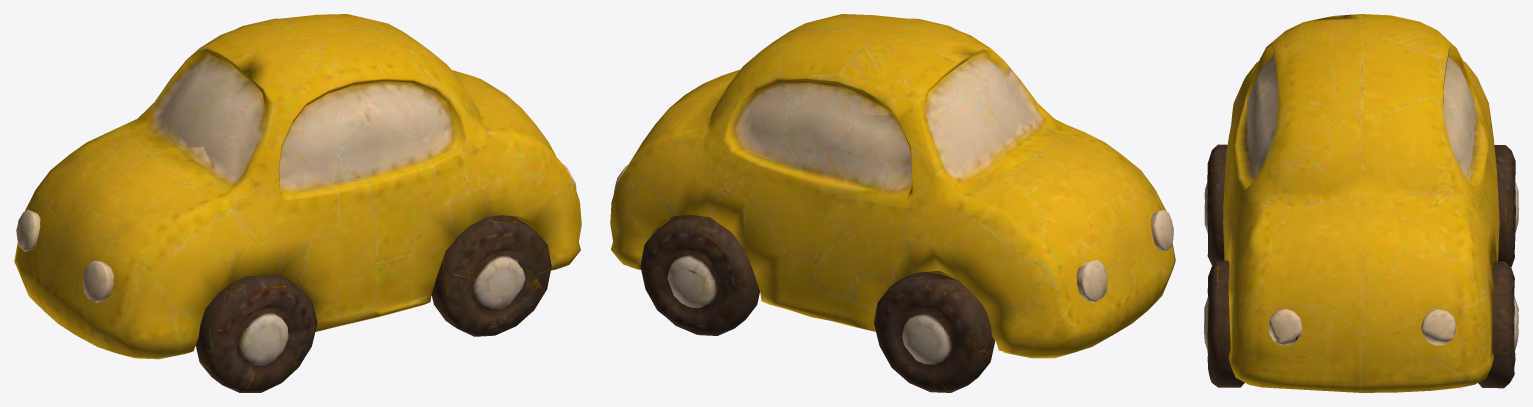
File: car-yellow.glb
3 views of the same model, side by side, from view 1: azimuth 30°, elevation 25°; view 2: azimuth 150°, elevation 25°; view 3: azimuth 270°, elevation 25° (orthographic).
Parts seen in each view (by area): view 1: geometry_0; view 2: geometry_0; view 3: geometry_0.
Boxes of the visible parts, left/top/right/bottom form: geometry_0: left=14, top=14, right=581, bottom=392; geometry_0: left=610, top=14, right=1175, bottom=392; geometry_0: left=1204, top=14, right=1518, bottom=392.
Bounding box in the file's own units: 1 × 0.552 × 0.5573.
1 material, 1 textured.
